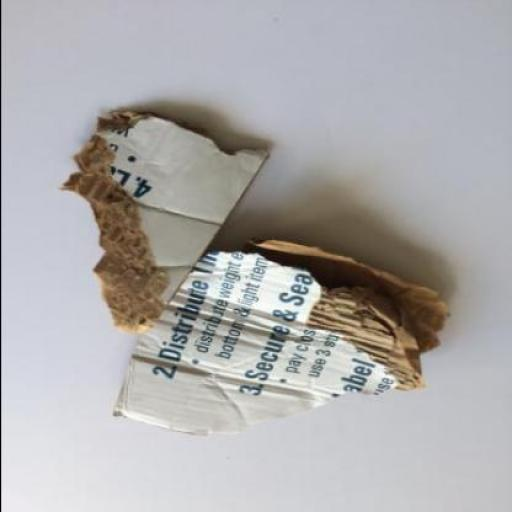cardboard: (108, 240, 450, 434), (58, 114, 266, 336)
